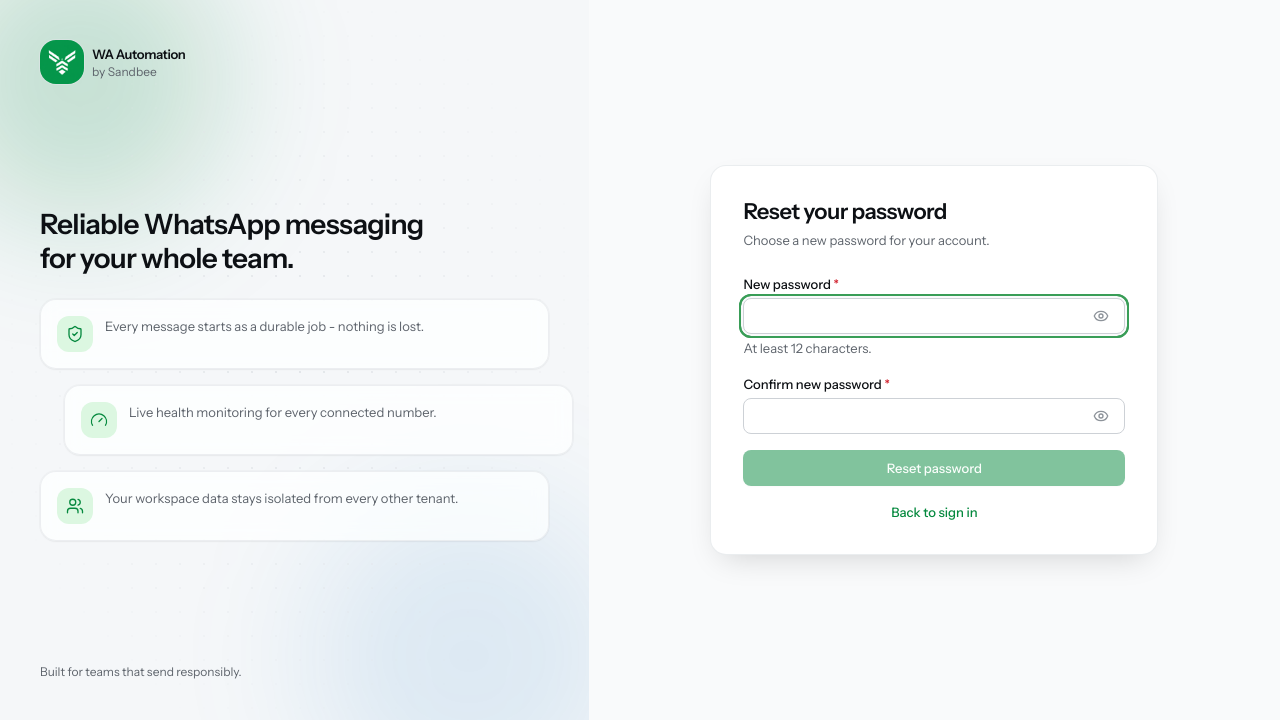
Test: forgot / reset password › reset_password_with_an_invalid_token_shows_request_new_link
Type "brand-new-password-1" into the password field with test id "reset-password-new".
click(934, 316); type("brand-new-password-1")  # box top-left (743, 298), bottom-right (1125, 334)
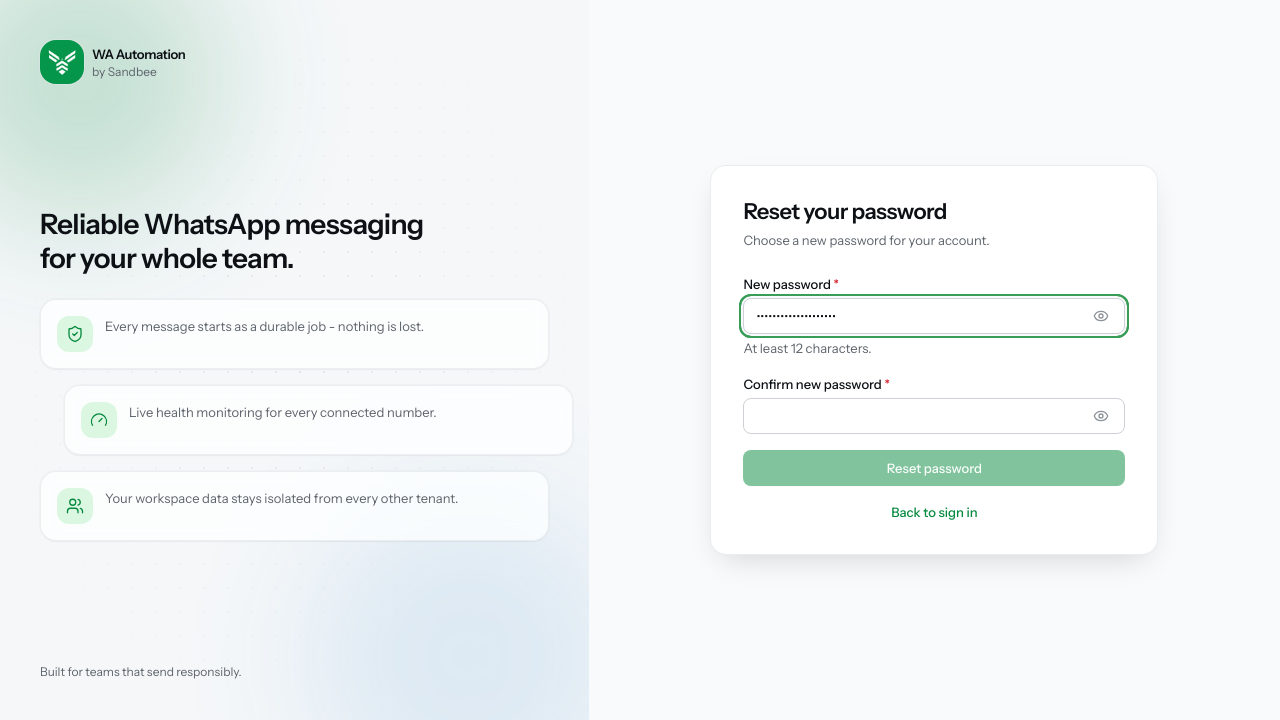
Type "brand-new-password-1" into the password field with test id "reset-password-confirm".
click(934, 416); type("brand-new-password-1")  # box top-left (743, 398), bottom-right (1125, 434)
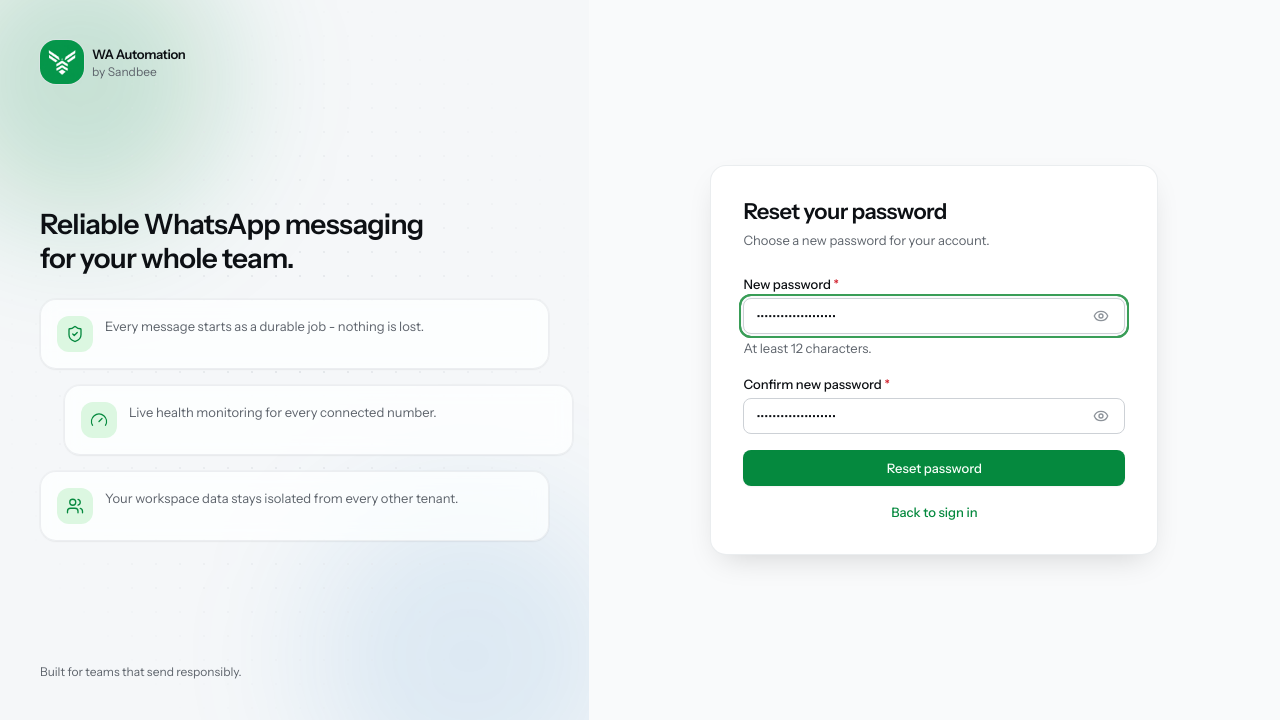
Now the button with test id "reset-password-submit" is enabled
Click the button with test id "reset-password-submit".
click(934, 468)  # box top-left (743, 450), bottom-right (1125, 486)
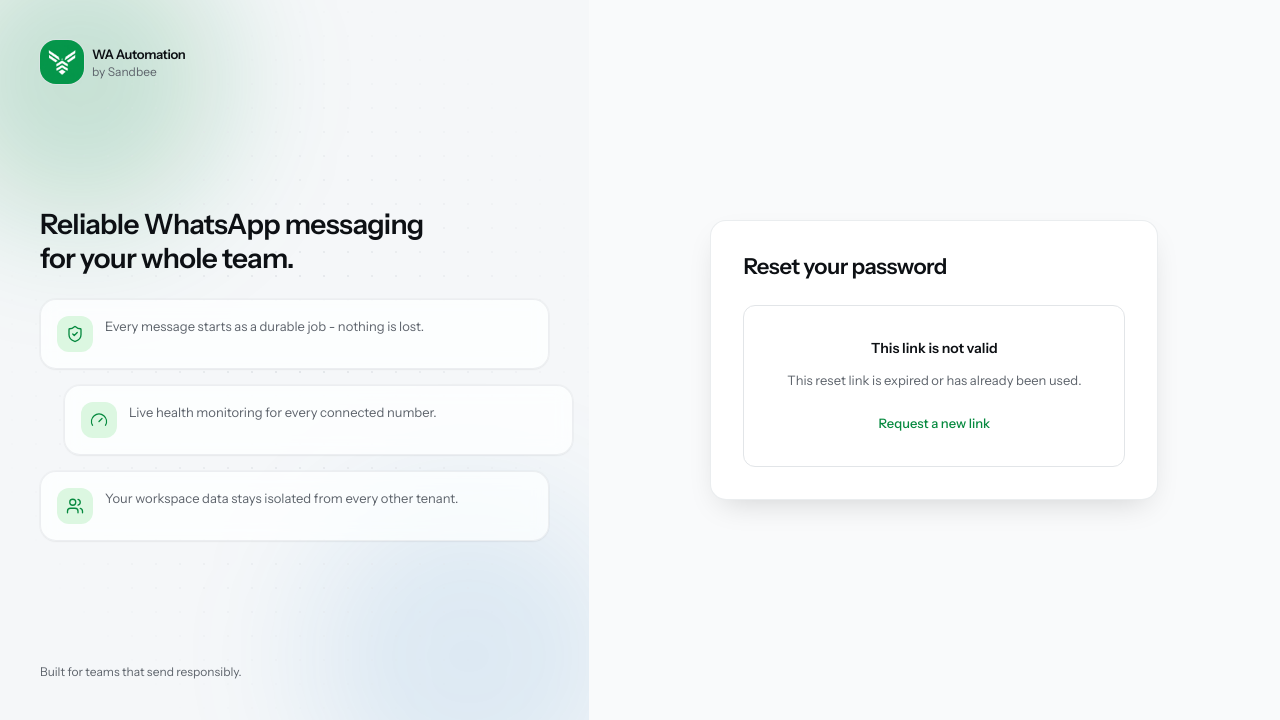
Now the message with test id "reset-password-invalid-token" shows "This link is not valid", box top-left (871, 339), bottom-right (998, 357)
